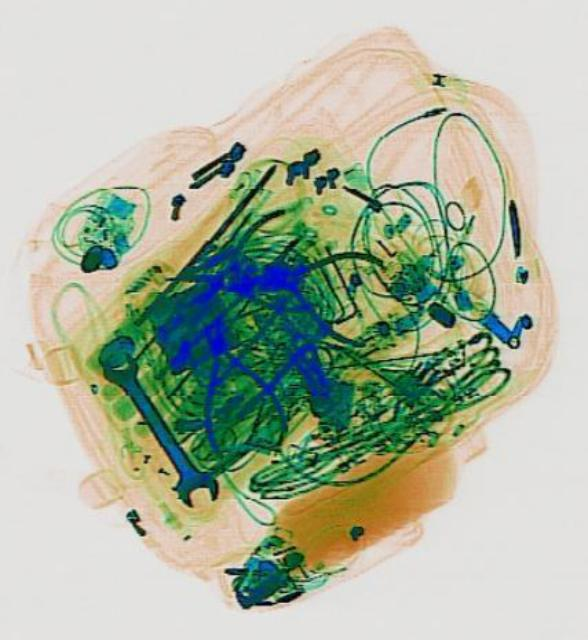Pliers: (169, 305, 289, 459), (258, 230, 388, 346), (184, 200, 308, 314)
Wrench: (90, 338, 221, 514)
